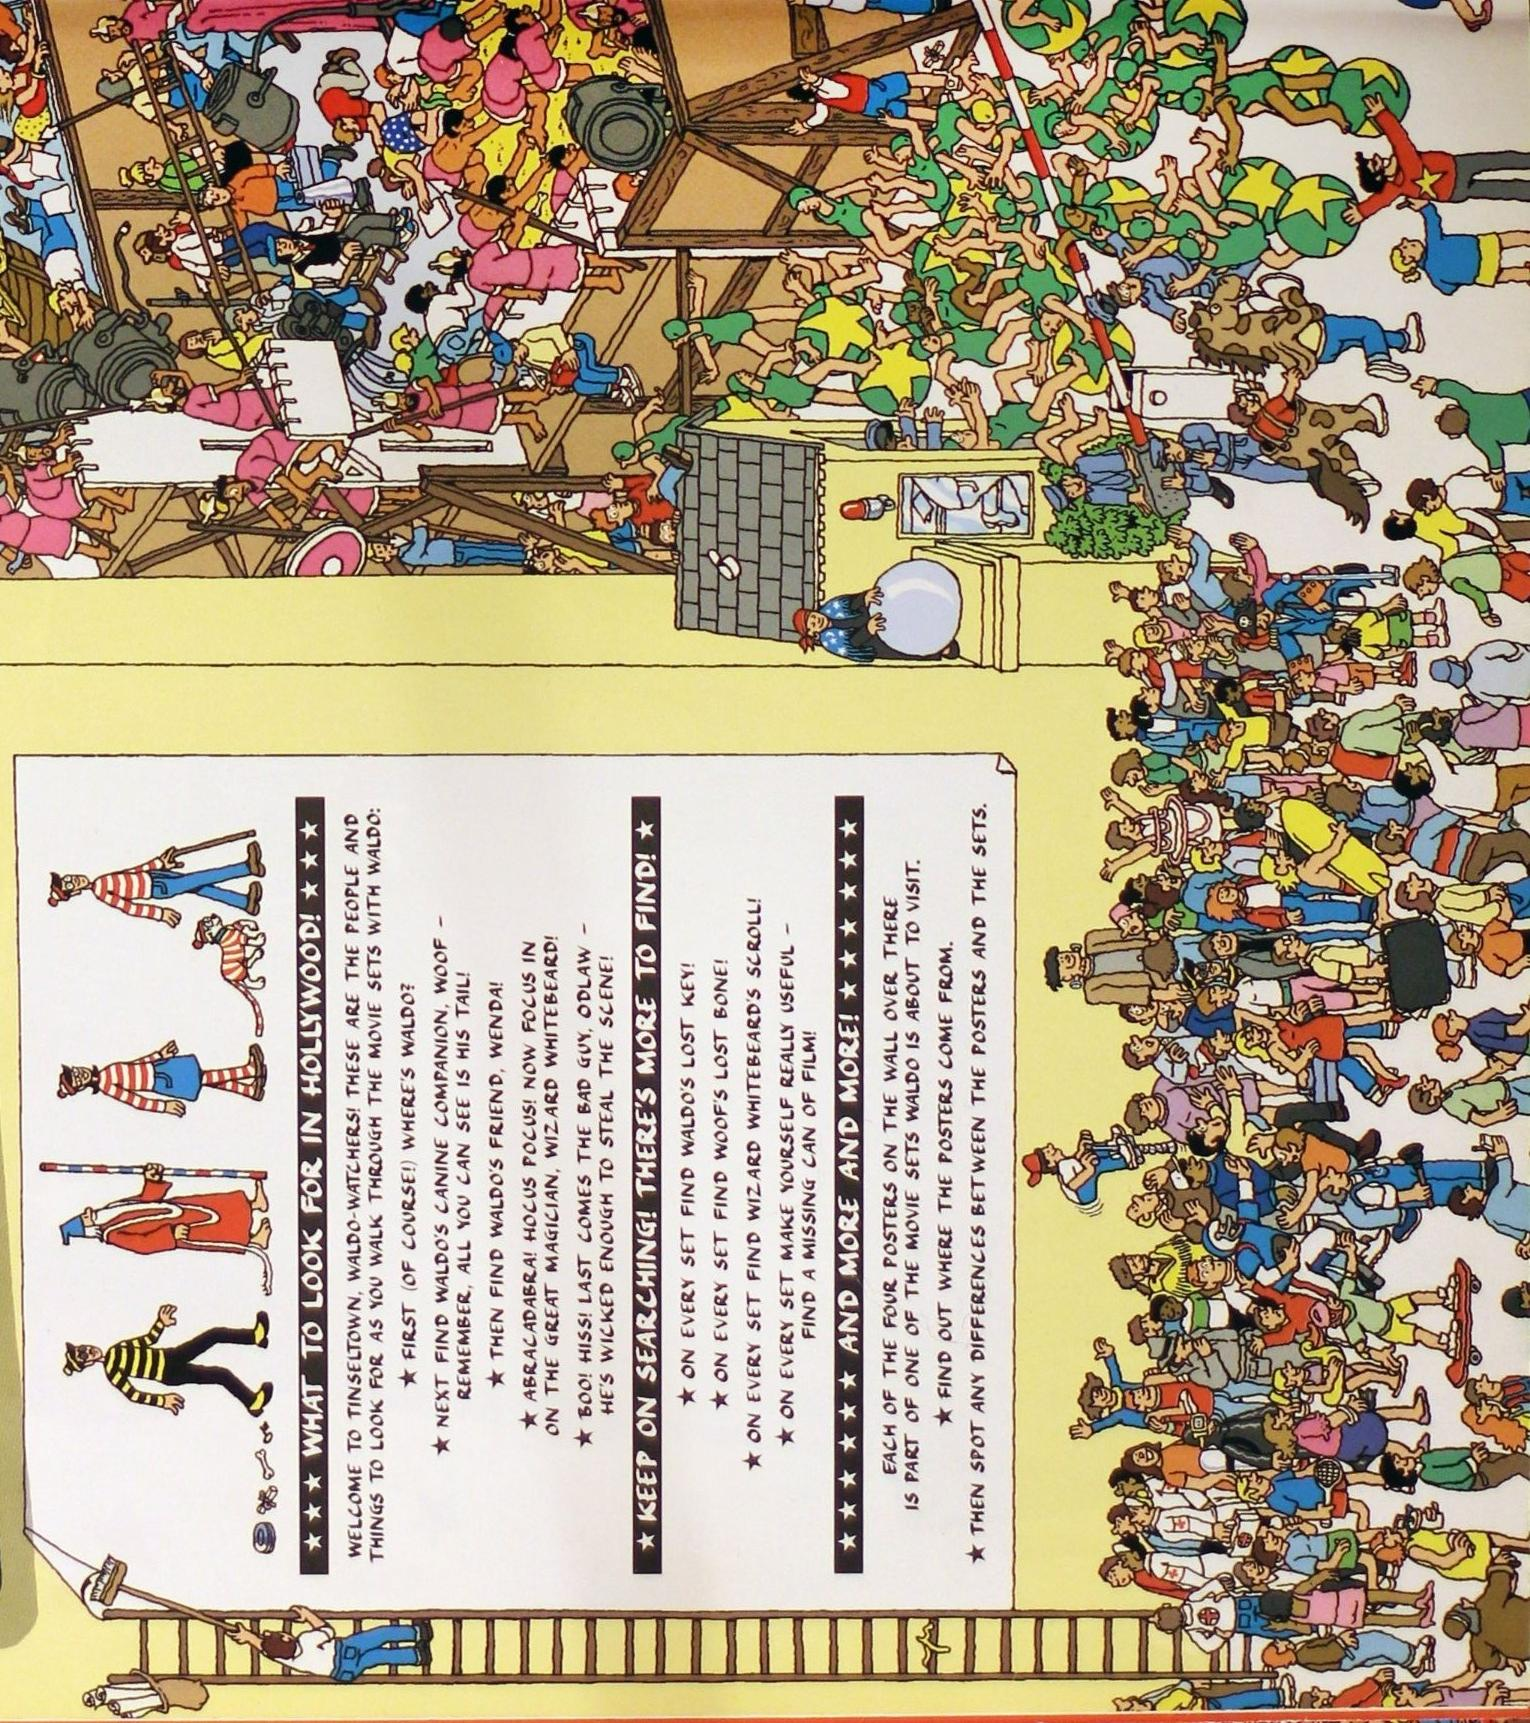waldos: (49, 830, 264, 930)
